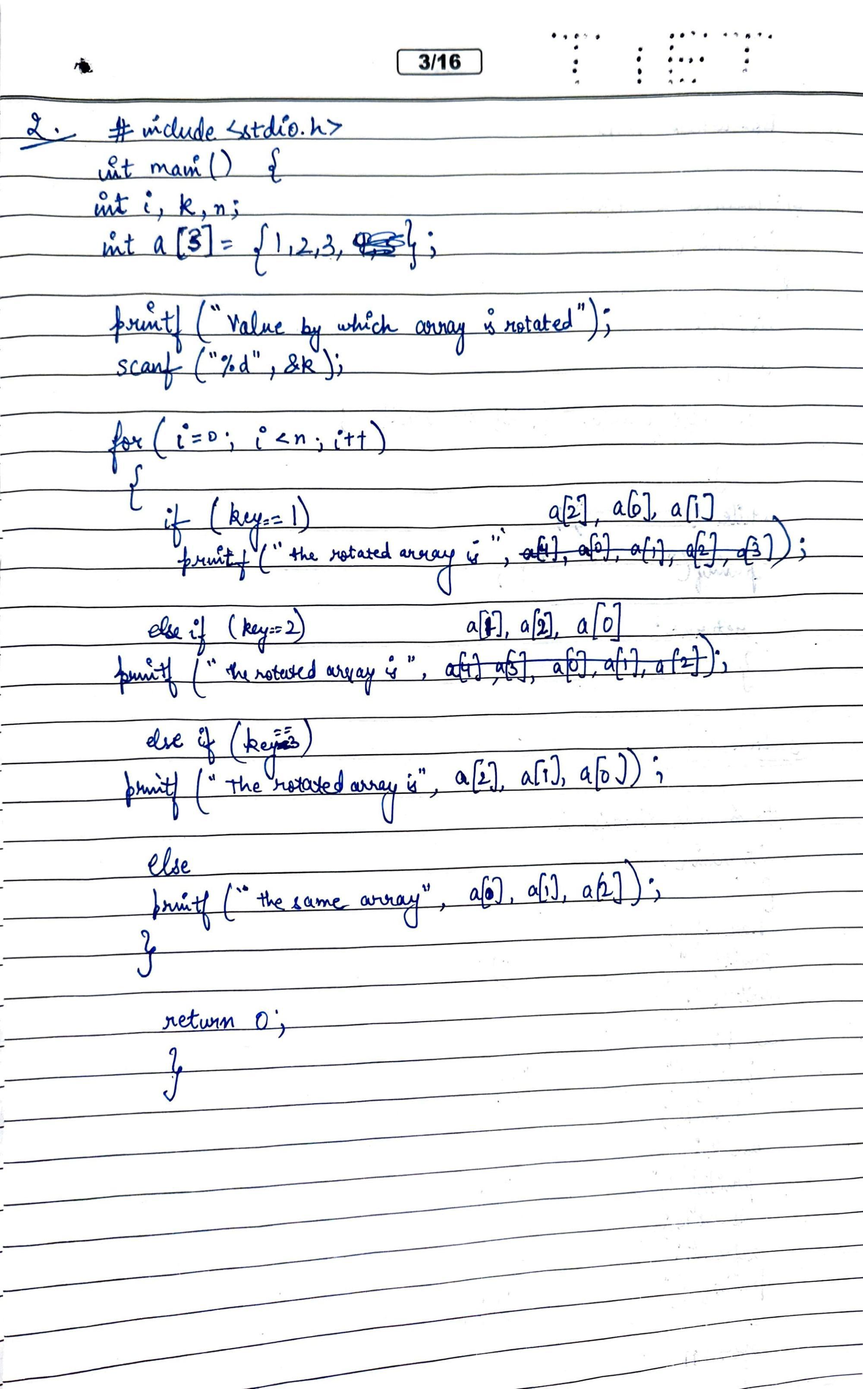cuttings: (446, 632, 732, 684), (520, 528, 775, 569), (352, 231, 408, 259), (277, 740, 291, 750)
